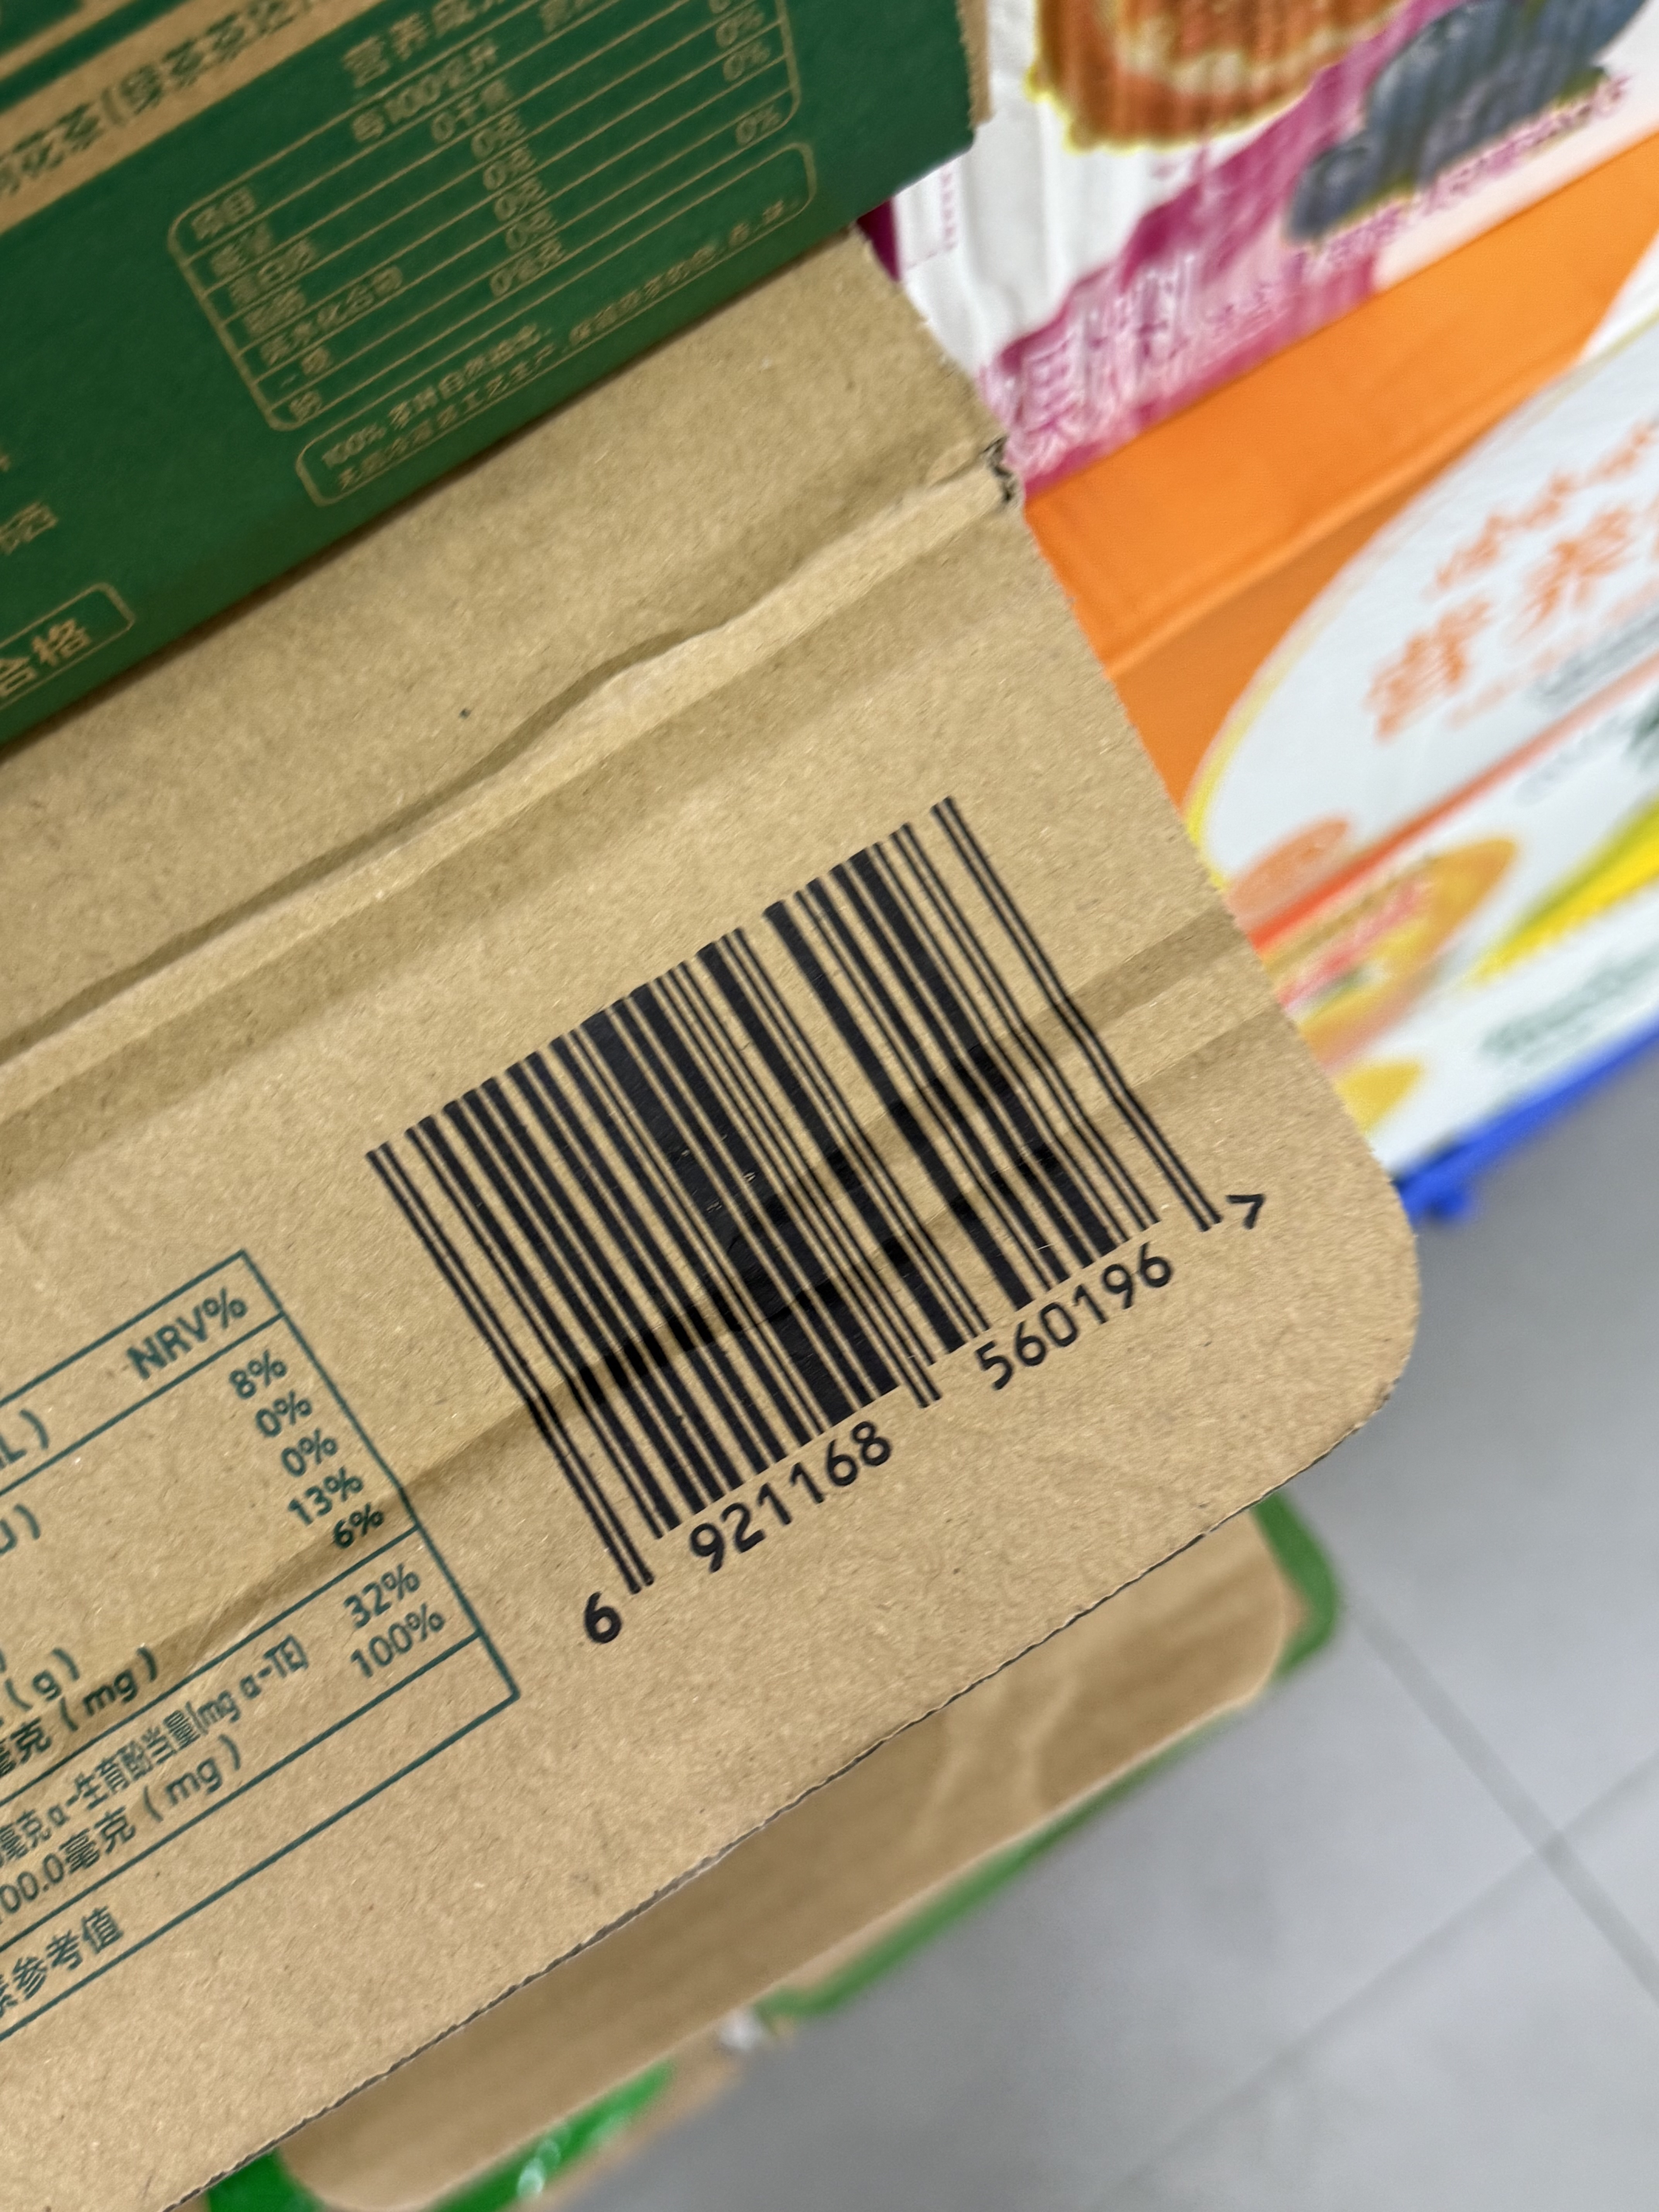bar: (355, 791, 1234, 1597)
